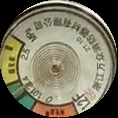green: (8, 79, 38, 109)
needle: (12, 78, 37, 100)
red: (34, 100, 81, 118)
yellow: (1, 35, 21, 84)
